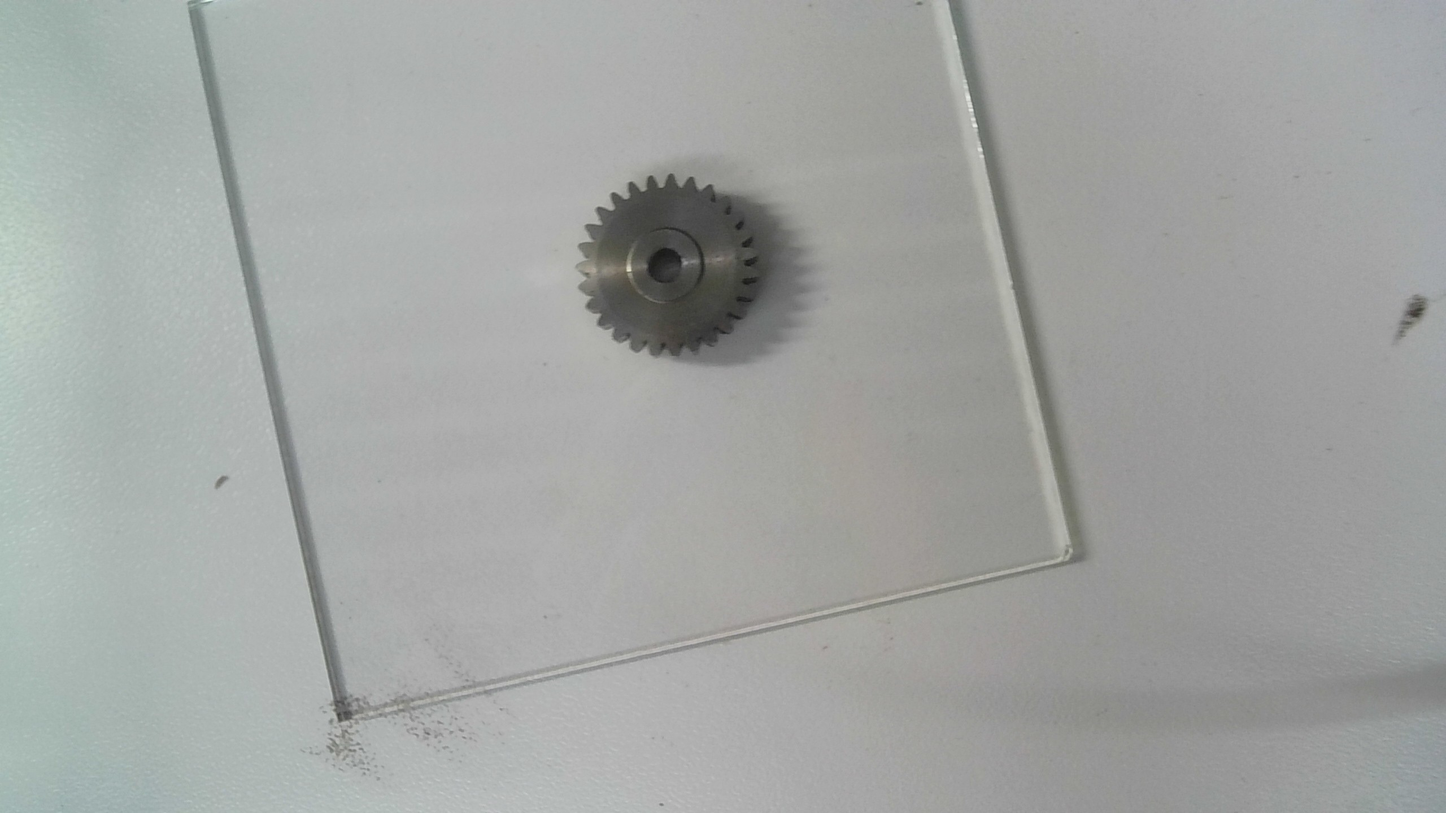gear: (571, 172, 761, 354)
